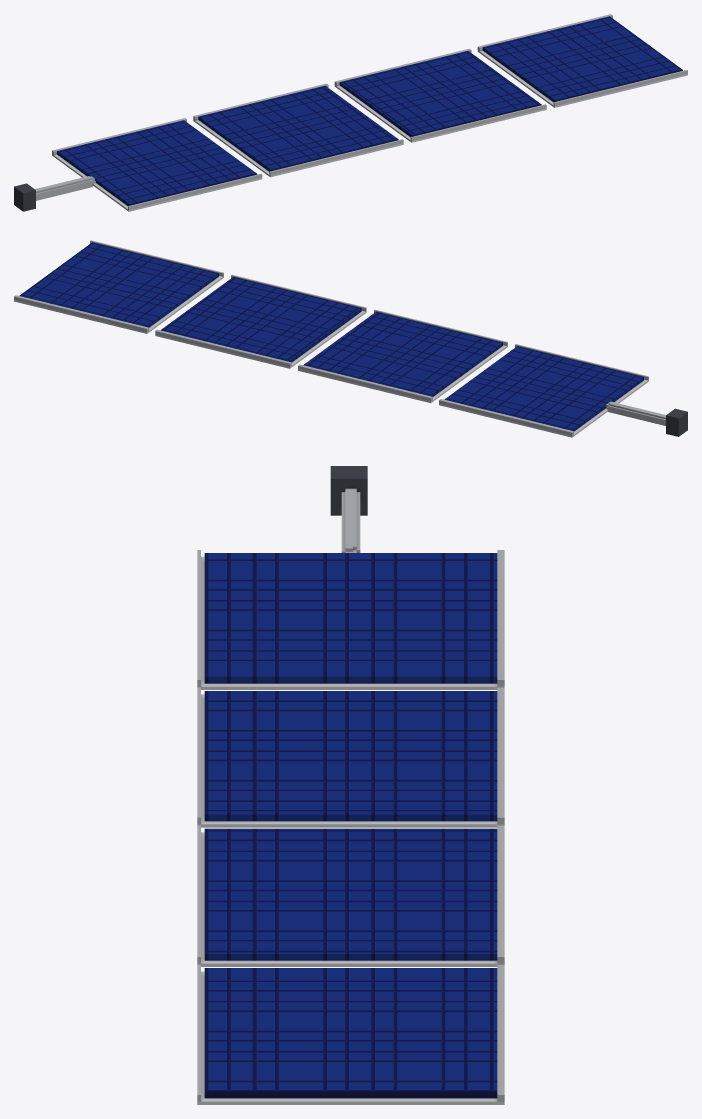
File: solar_wing_l.glb
3 renders of one model, top to bottom at view 1: azimuth 30°, elevation 25°; view 2: azimuth 150°, elevation 25°; view 3: azimuth 270°, elevation 25°, orthographic. The views are drawn at different scales.
Parts seen in each view (by area): view 1: solar_wing_l; view 2: solar_wing_l; view 3: solar_wing_l.
Part boxes in pixels (x1,y1,x2,y2): solar_wing_l: (14,14,687,211); solar_wing_l: (14,240,687,437); solar_wing_l: (197,466,504,1104).
Bounding box in the file's own units: 6.14 × 0.1719 × 1.3.
